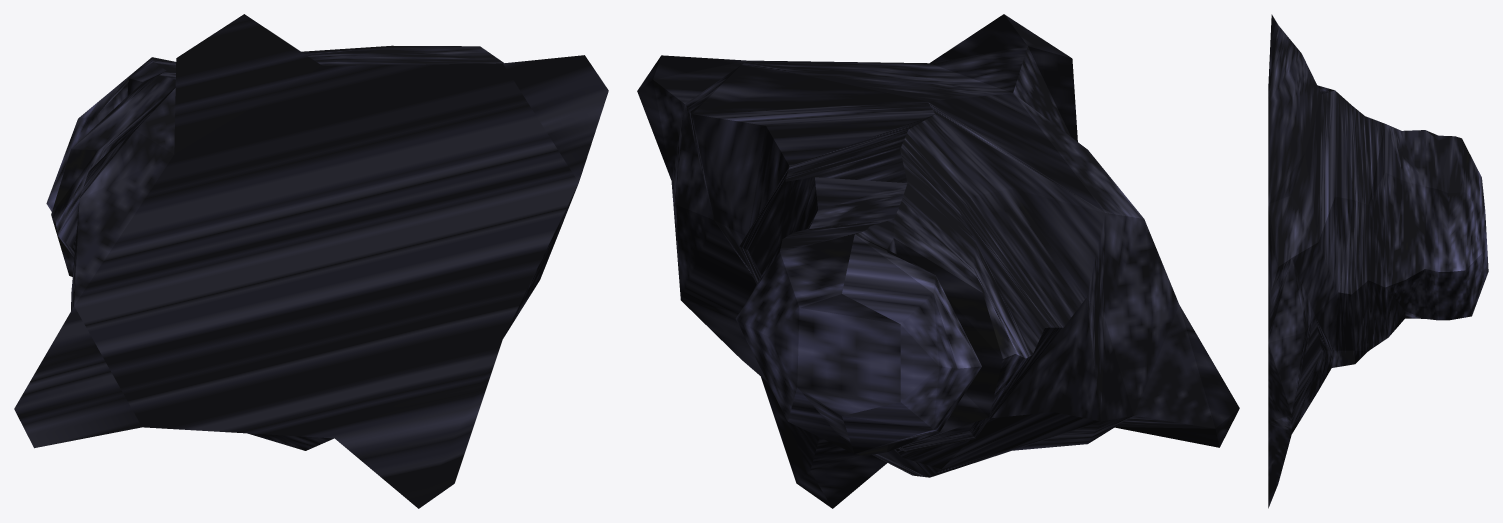
Rendered from tarbaby.obj.
3 renders of one model, left to right at view 1: azimuth 30°, elevation 25°; view 2: azimuth 150°, elevation 25°; view 3: azimuth 270°, elevation 25°, orthographic. The views are drawn at different scales.
Parts seen in each view (by area): view 1: tarbaby; view 2: tarbaby; view 3: tarbaby.
Boxes of the visible parts, box(x1,y1,x2,y2) form: tarbaby: box(14, 14, 608, 508); tarbaby: box(637, 14, 1239, 508); tarbaby: box(1268, 14, 1488, 508).
Bounding box in the file's own units: 1824 × 1564 × 738.
1 material, 1 textured.
